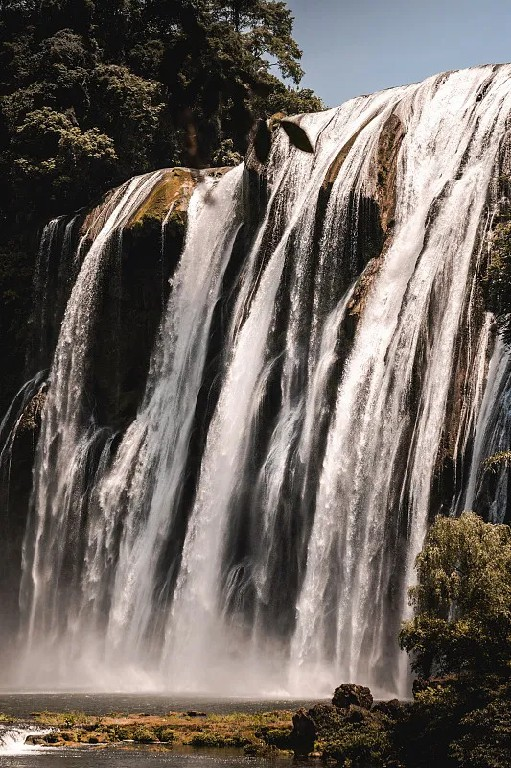Huangguoshu: (22, 63, 511, 700)
